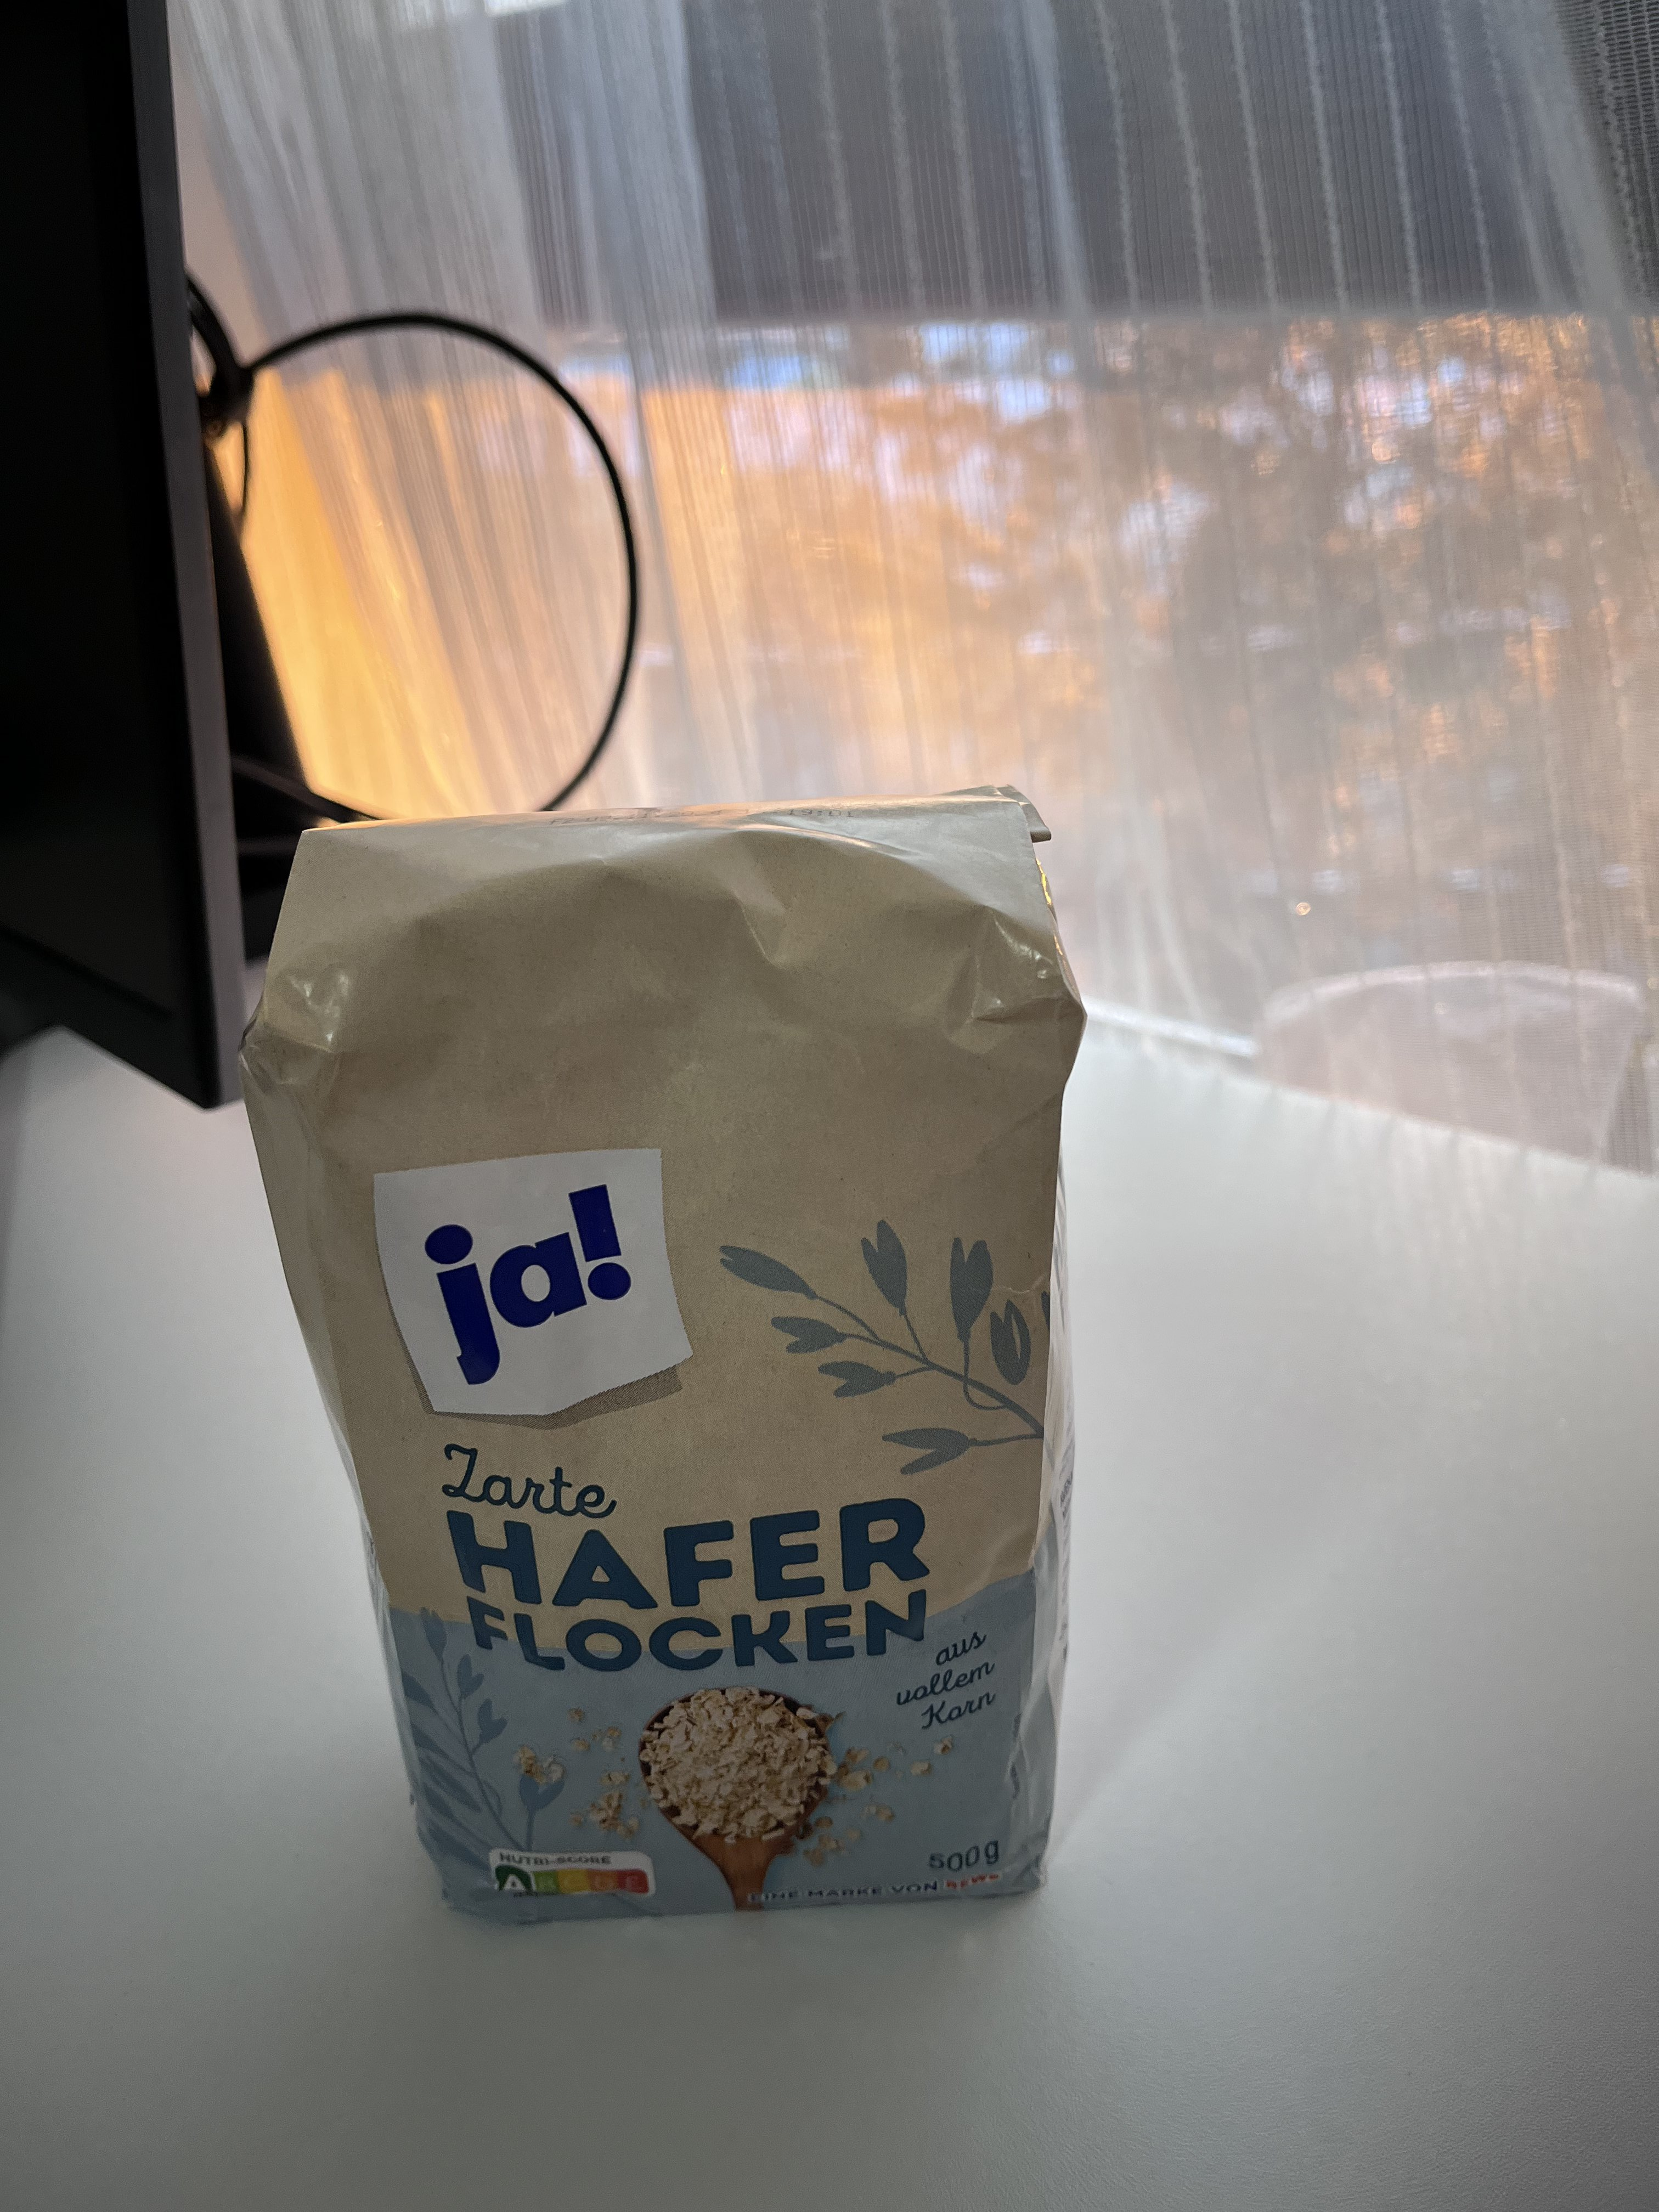haferflocken_ja: (232, 782, 1084, 1928)
